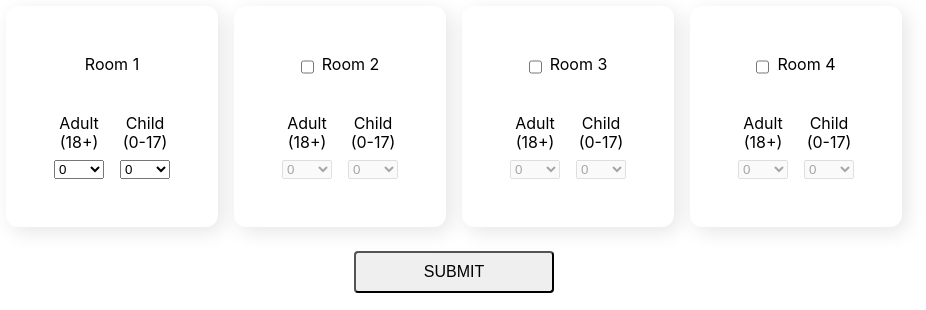
Test case: Room 4 checkbox interaction › If Room 4 is checked, Room 3 and Room 2 are also checked
Click the checkbox with test id "heading-input-tag-4": (763, 67) 756,57 -> 769,77
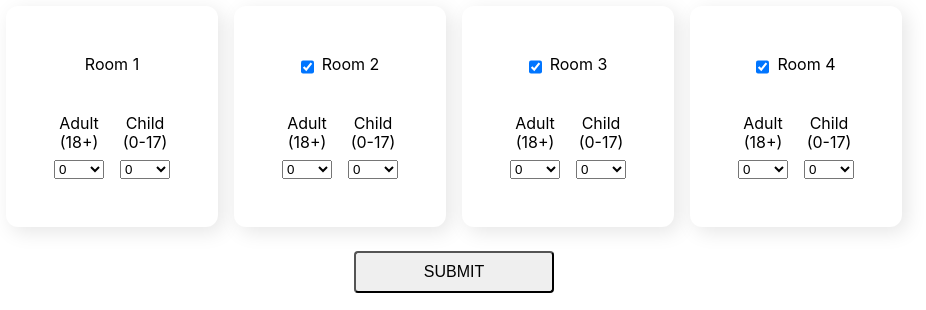
Check: the checkbox with test id "heading-input-tag-3" is checked, box 529,57 -> 542,77
Check: the checkbox with test id "heading-input-tag-2" is checked, box 301,57 -> 314,77
